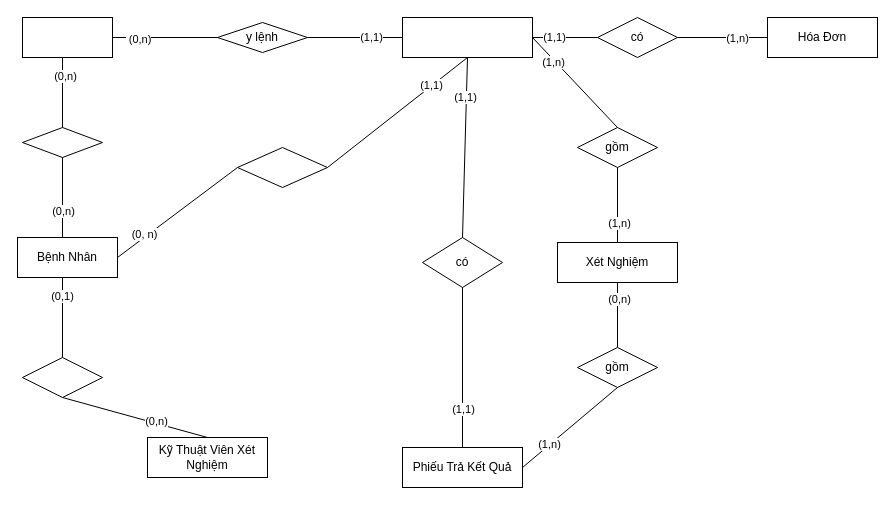
The diagram is 895 pixels wide and 505 high, and some of its shapes have lost their labels. The shapes that lost their labels are listed below. From the top down, each one's box as (x1, y1, x2, y2) in pixels, then its label:
(22, 16, 112, 58): Bác Sĩ
(402, 16, 532, 58): Phiếu Chỉ Định
(22, 126, 102, 158): điều trị
(236, 146, 328, 188): yêu cầu
(22, 356, 102, 398): lấy máu
